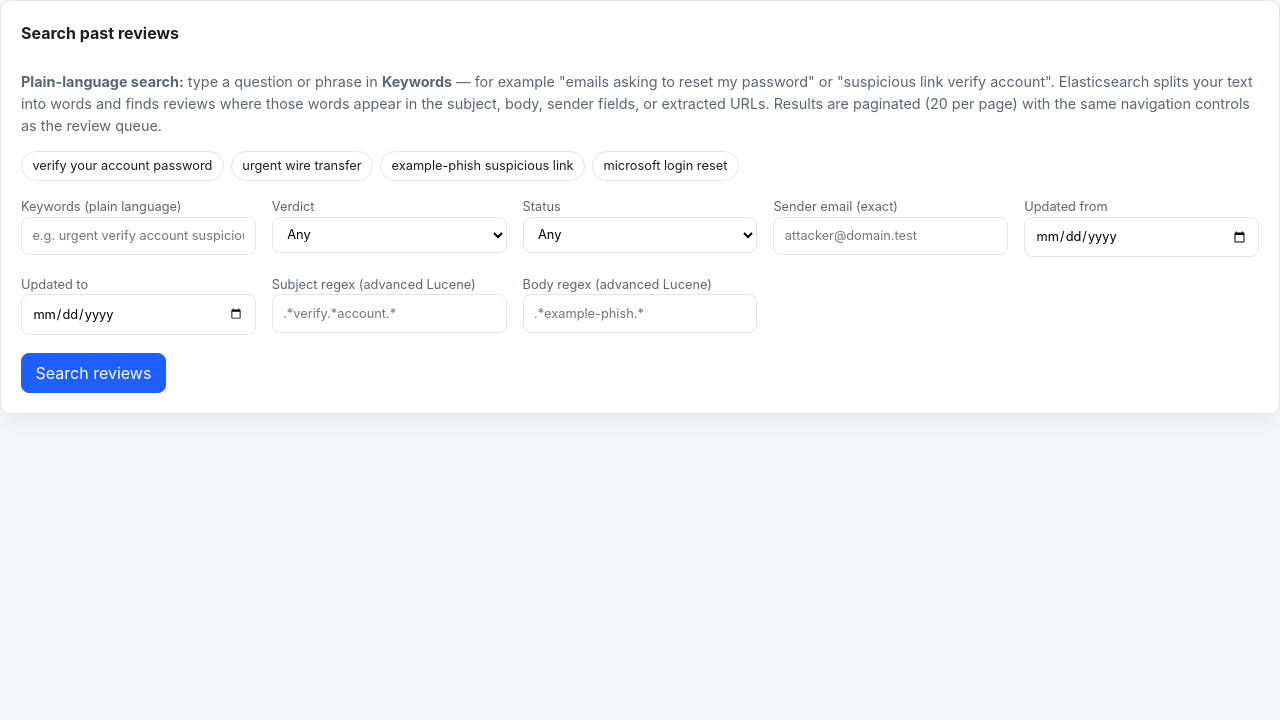
Test case: ReviewSearchPanel pagination › shows helpful message when jump to date returns 404
The image size is (1280, 720).
Click the button "Search reviews". click: (94, 373)
box: [21,352,166,393]
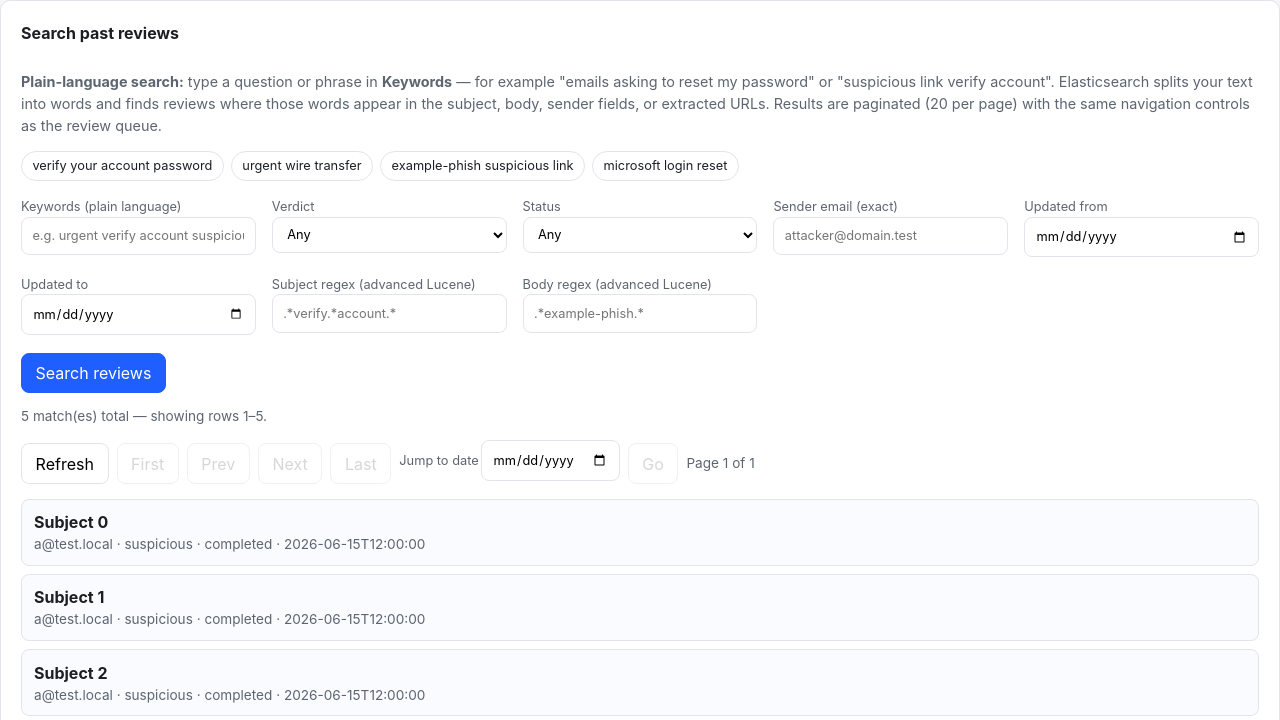
Check: the text "5 match(es) total — showing rows 1–5." is shown, box [21,408,267,424]
Type "2026-06-26" into the date field labelled "Jump to date". click: (550, 461)
box: [481,440,620,481]
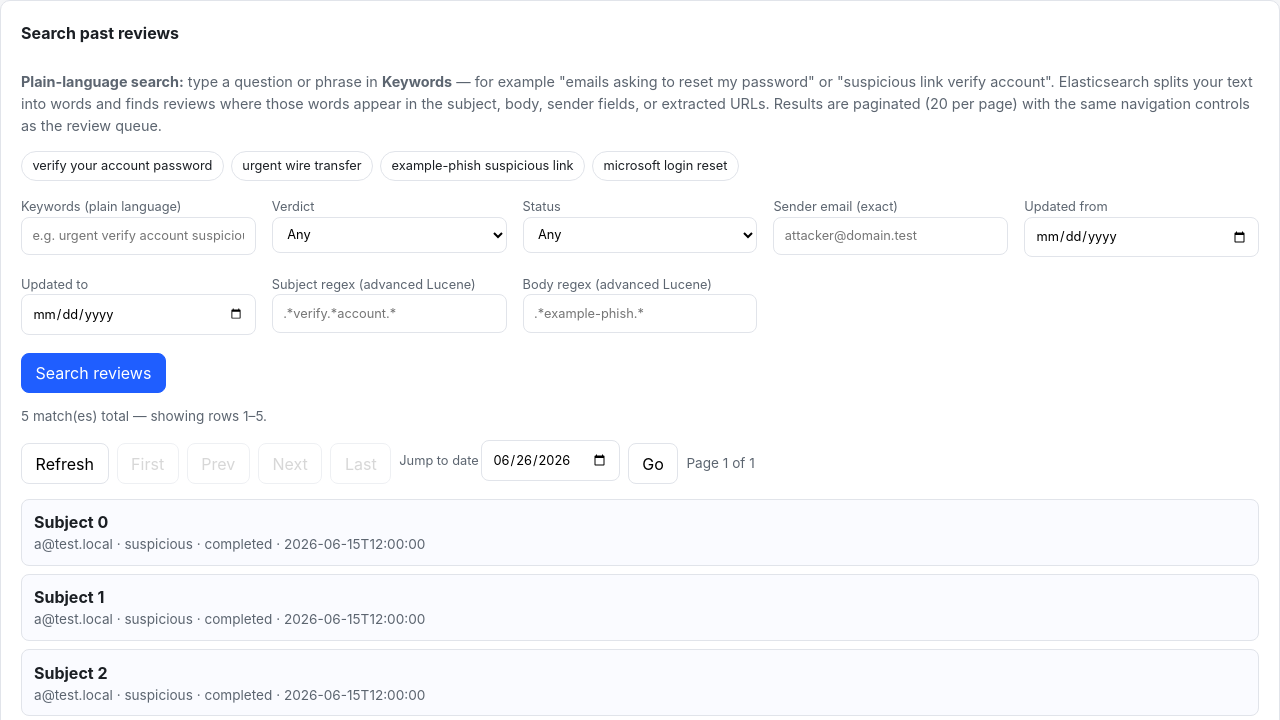
Click the button "Go". click: (653, 464)
box: [628,444,678,484]
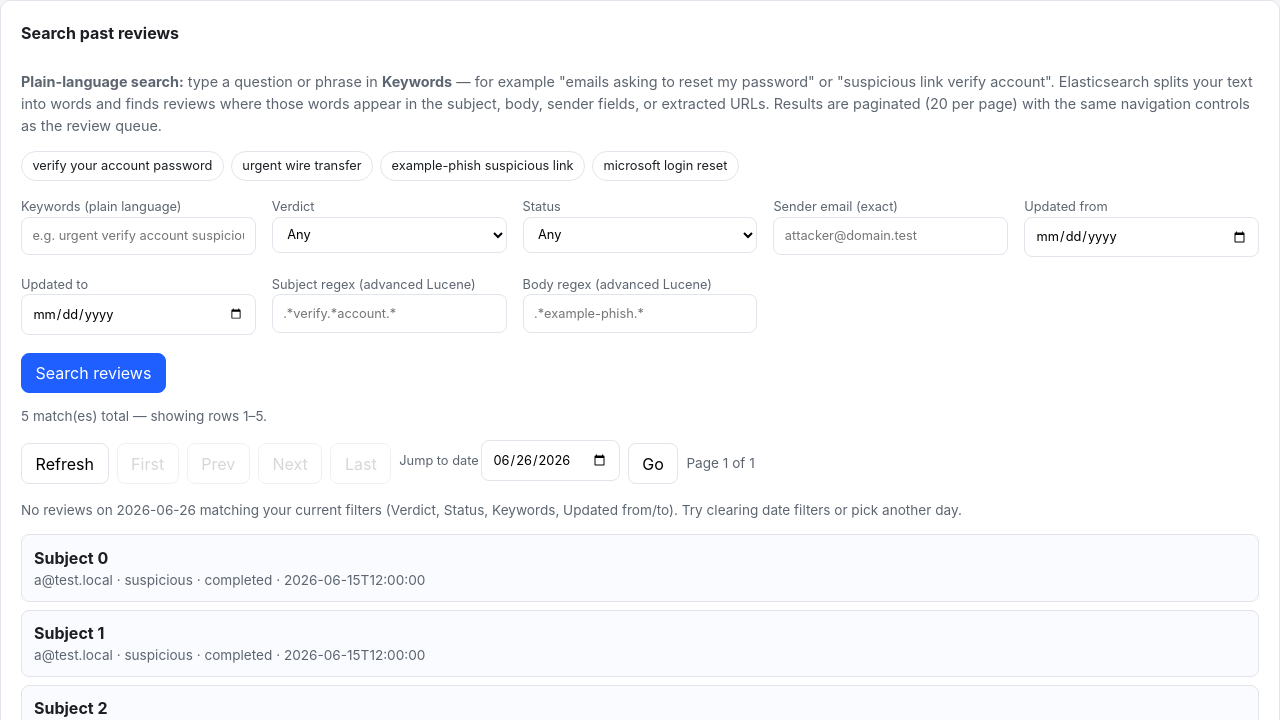
Check: the text "No reviews on 2026-06-26 matching your current filters" is shown, box [21,502,962,518]
